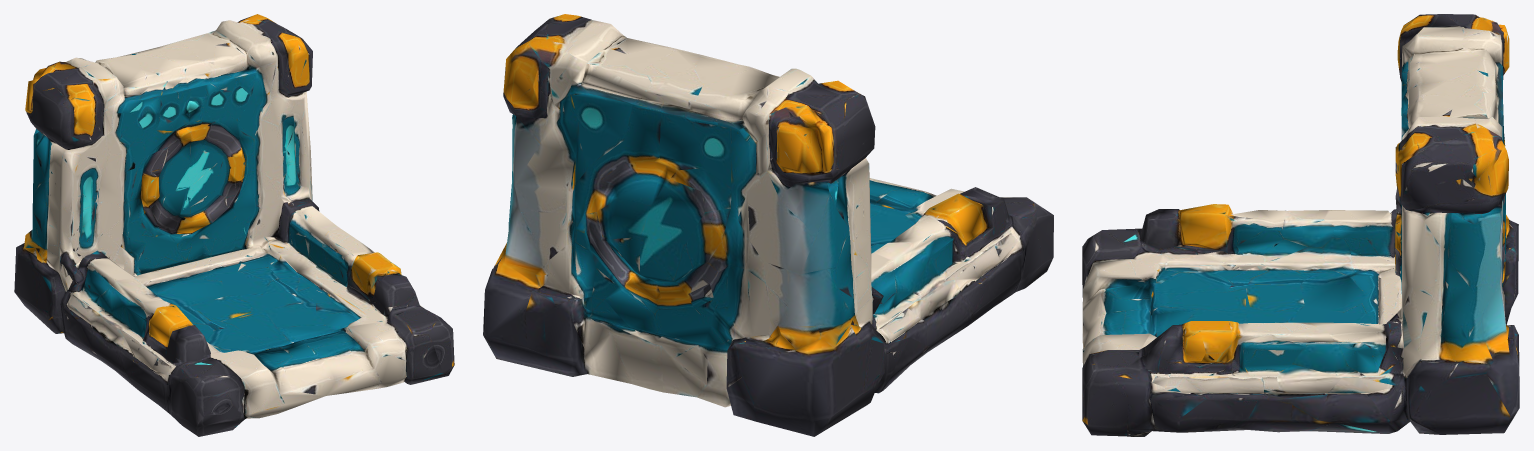
Rendered from dock.glb.
The picture shows the model from 3 angles, left to right: view 1: azimuth 30°, elevation 25°; view 2: azimuth 150°, elevation 25°; view 3: azimuth 270°, elevation 25°; orthographic projection. The views are drawn at different scales.
Parts seen in each view (by area): view 1: dock; view 2: dock; view 3: dock.
Part boxes in pixels (box(x1,y1,x2,y2)): dock: box(14, 14, 454, 436); dock: box(483, 14, 1053, 436); dock: box(1082, 14, 1519, 436).
Bounding box in the file's own units: 1.6 × 1.39 × 1.9.
Materials: 1 (1 with a texture image).
